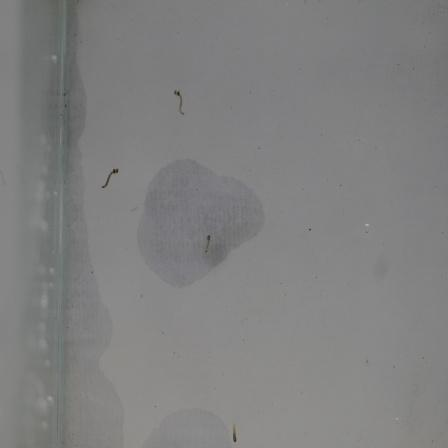Jentik-Nyamuk: (98, 163, 123, 195), (169, 85, 190, 121), (200, 230, 215, 259)
